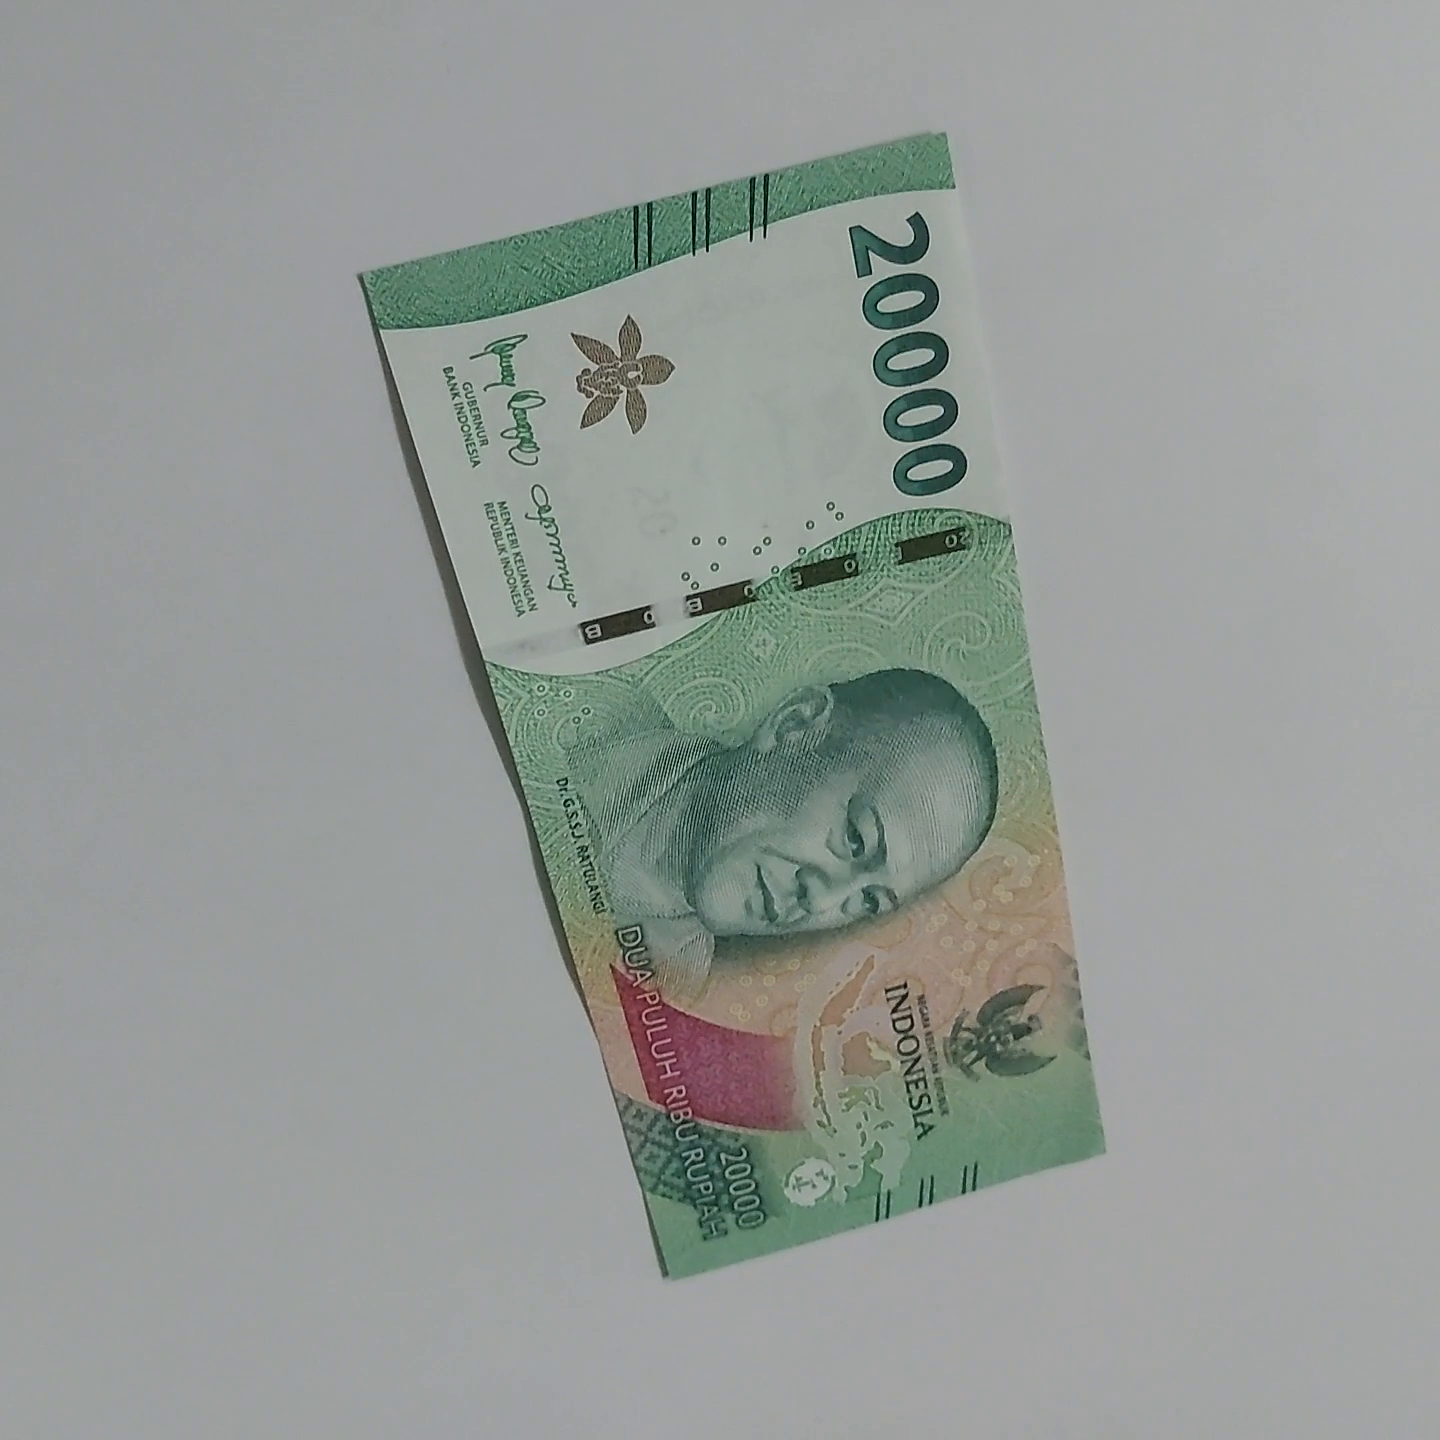20k: (319, 256, 982, 1342)
